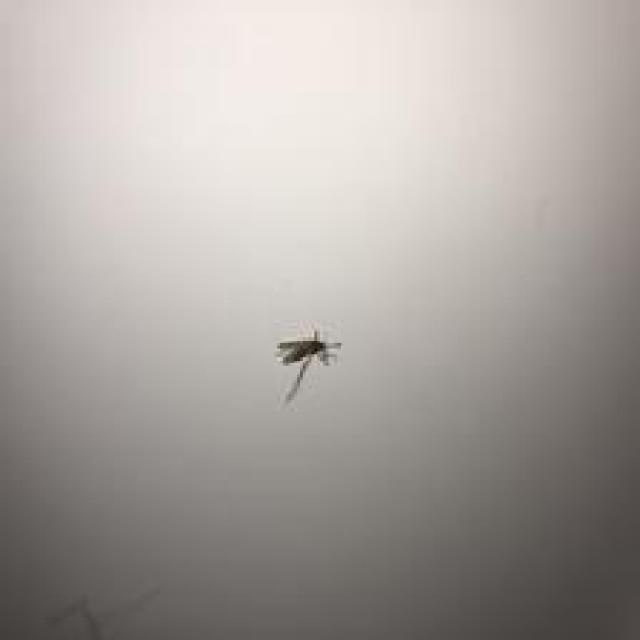Culex: (273, 327, 341, 404)
